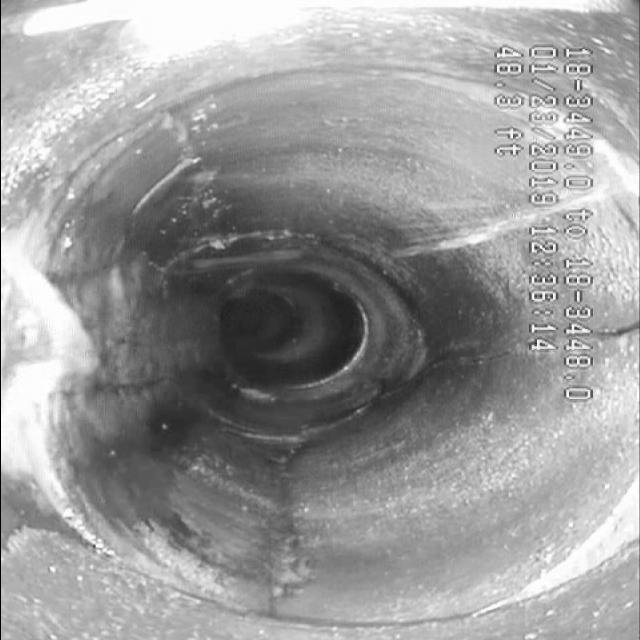Crack: (348, 296, 626, 450)
